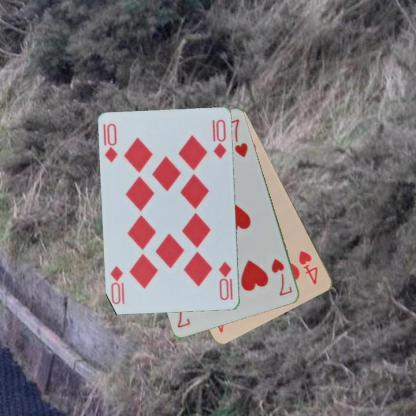10d: (216, 258, 235, 302), (102, 121, 119, 164)
4h: (297, 248, 320, 286)
7h: (269, 256, 294, 298)
